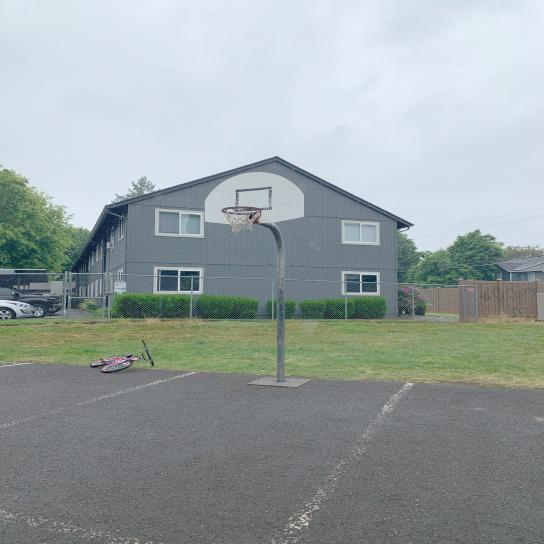basketball-hoop: (219, 206, 264, 236)
